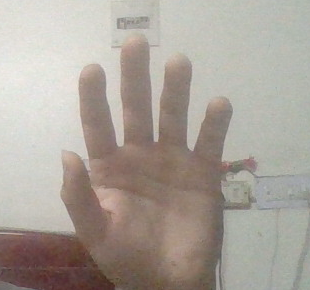move: (44, 25, 249, 278)
